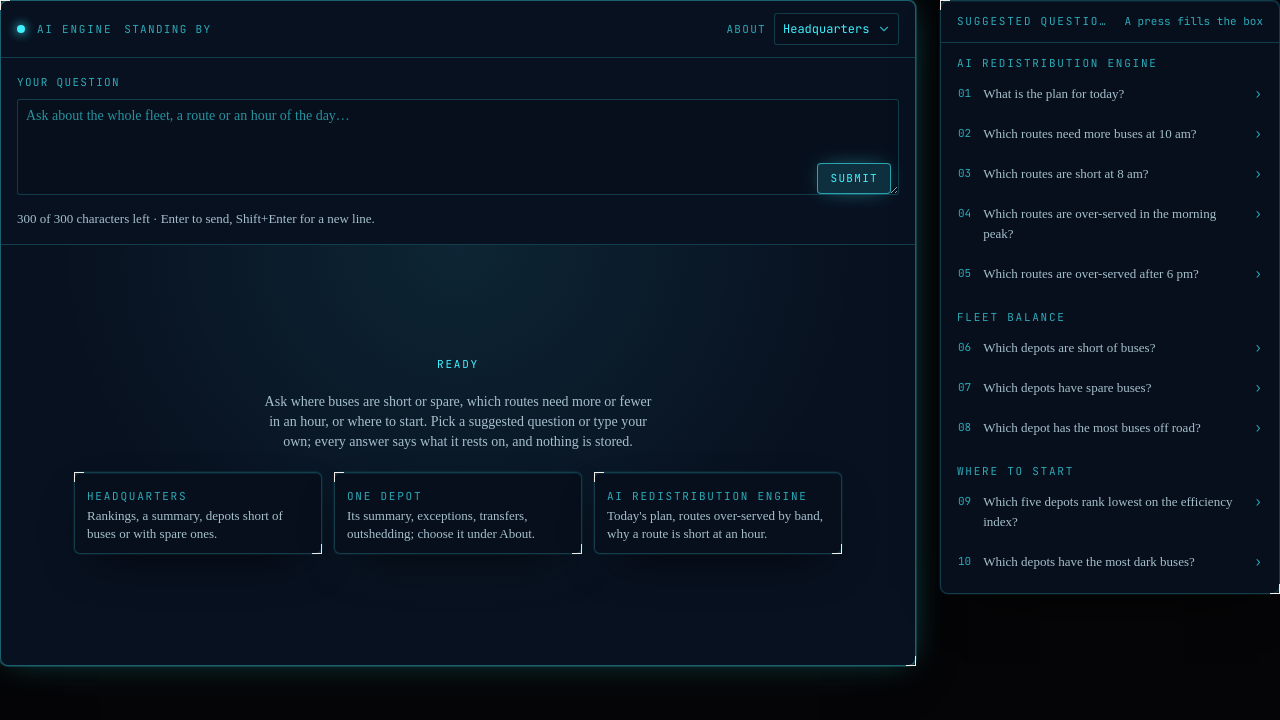
AskPanel › an empty submit keeps the button enabled and says what to do in the status line
Click the submit button at x=854, y=178, box [818,163,891,194]
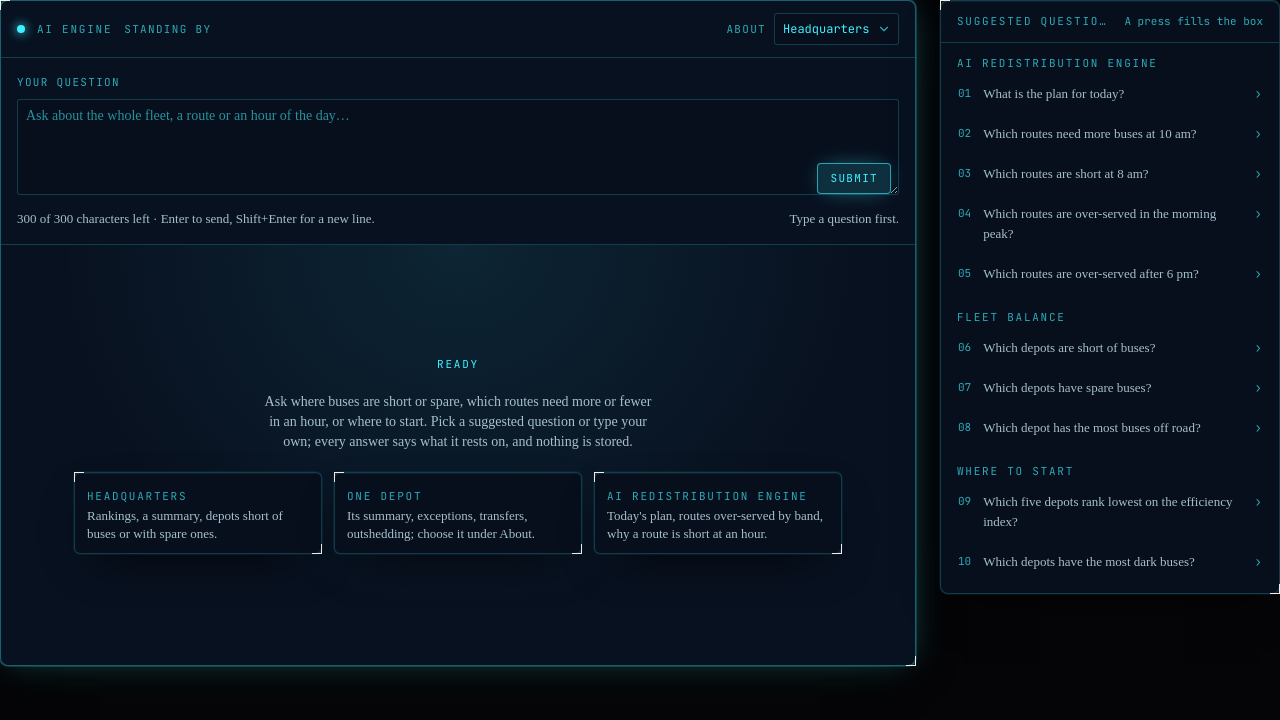
expect the message "Type a question first." is shown: met, box [789,210,899,228]
